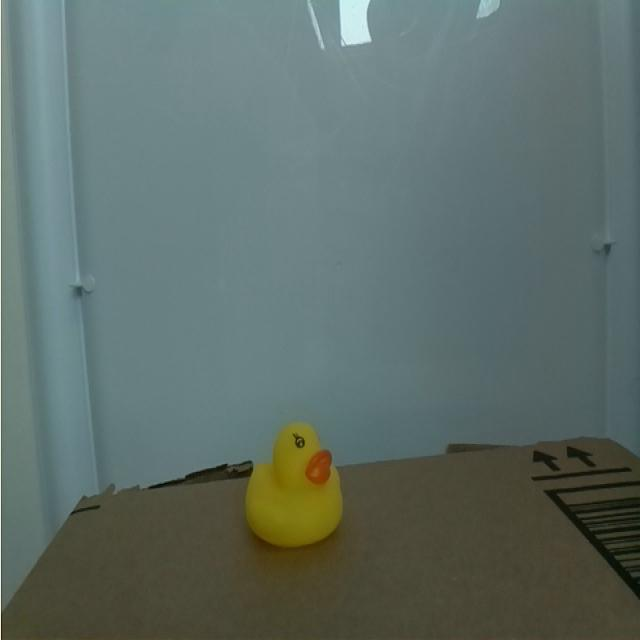duck_regular: (231, 420, 359, 566)
